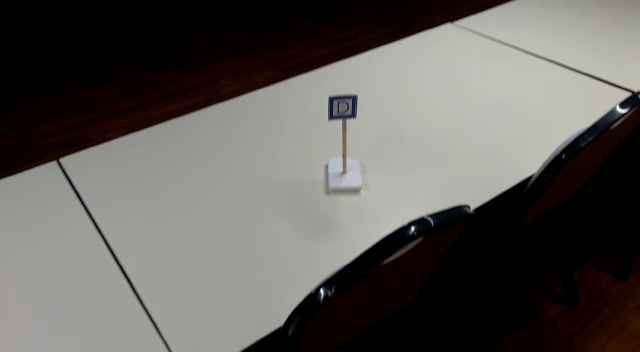durak: (328, 95, 358, 119)
